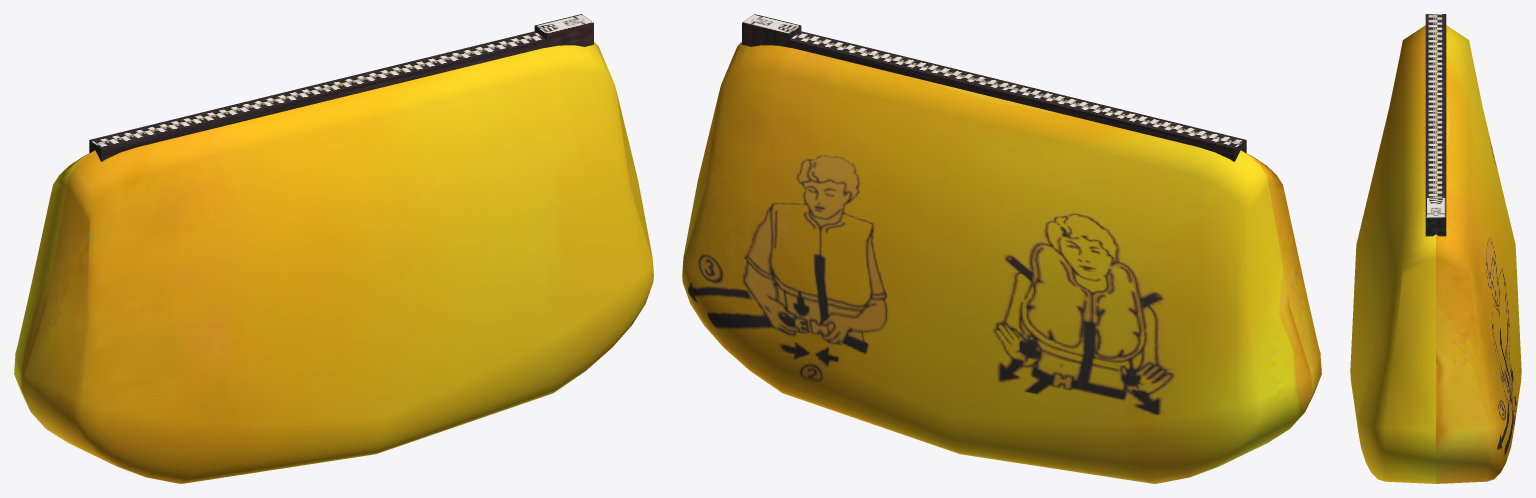
The model's file is jacketBag.fbx.
The picture shows the model from 3 angles, left to right: view 1: azimuth 30°, elevation 25°; view 2: azimuth 150°, elevation 25°; view 3: azimuth 270°, elevation 25°; orthographic projection. The views are drawn at different scales.
Parts seen in each view (by area): view 1: Cube, Cube.001, Cube.002; view 2: Cube, Cube.001, Cube.002; view 3: Cube, Cube.001, Cube.002.
Part boxes in pixels (box(x1,y1,x2,y2)): Cube: box(14, 36, 653, 483); Cube.001: box(89, 31, 546, 161); Cube.002: box(534, 14, 593, 47); Cube: box(682, 36, 1321, 483); Cube.001: box(789, 31, 1246, 161); Cube.002: box(742, 14, 801, 47); Cube: box(1350, 25, 1521, 483); Cube.001: box(1425, 14, 1446, 197); Cube.002: box(1425, 197, 1446, 236).
Size of the model in its own units: 284 by 150 by 78.17.
Materials: 1 (1 with a texture image).
